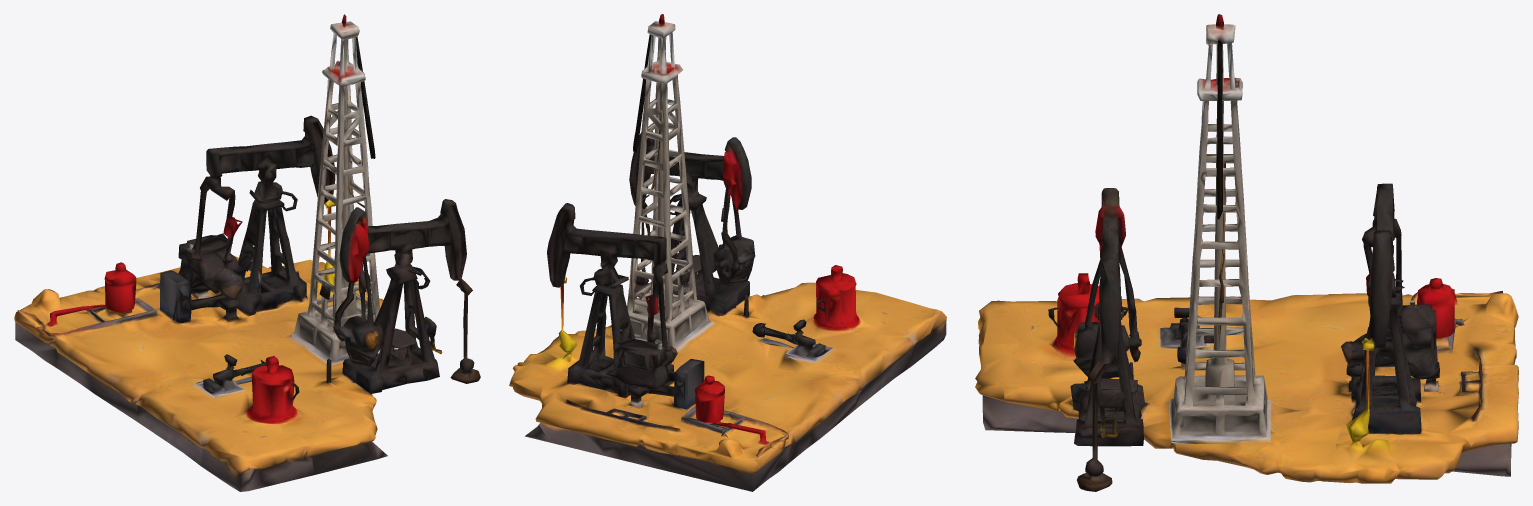
The model's file is prop_oilfield.glb.
3 views of the same model, side by side, from view 1: azimuth 30°, elevation 25°; view 2: azimuth 150°, elevation 25°; view 3: azimuth 270°, elevation 25° (orthographic). The views are drawn at different scales.
Parts seen in each view (by area): view 1: tripo_node_ceafb0b0-f7fb-49a4-a753-591505fb54b7; view 2: tripo_node_ceafb0b0-f7fb-49a4-a753-591505fb54b7; view 3: tripo_node_ceafb0b0-f7fb-49a4-a753-591505fb54b7.
Part boxes in pixels (x1,y1,x2,y2): tripo_node_ceafb0b0-f7fb-49a4-a753-591505fb54b7: [14, 14, 480, 491]; tripo_node_ceafb0b0-f7fb-49a4-a753-591505fb54b7: [509, 14, 946, 491]; tripo_node_ceafb0b0-f7fb-49a4-a753-591505fb54b7: [975, 14, 1518, 491].
Bounding box in the file's own units: 0.7758 × 0.8852 × 0.9778.
1 material, 1 textured.
